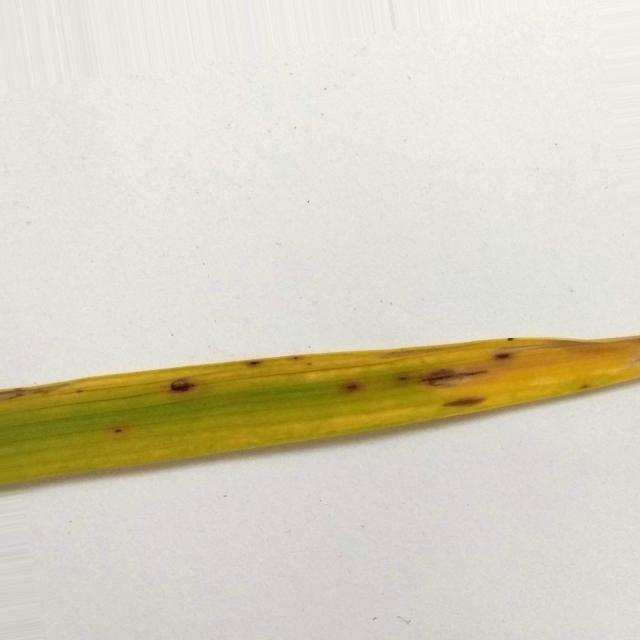Brown_Spot: (426, 369, 482, 386), (169, 379, 195, 392), (444, 398, 484, 406), (342, 381, 364, 392), (495, 352, 511, 360), (576, 380, 592, 388), (246, 359, 264, 366), (286, 355, 302, 362), (76, 389, 85, 394), (400, 371, 404, 379), (115, 429, 122, 432), (508, 338, 514, 341)
